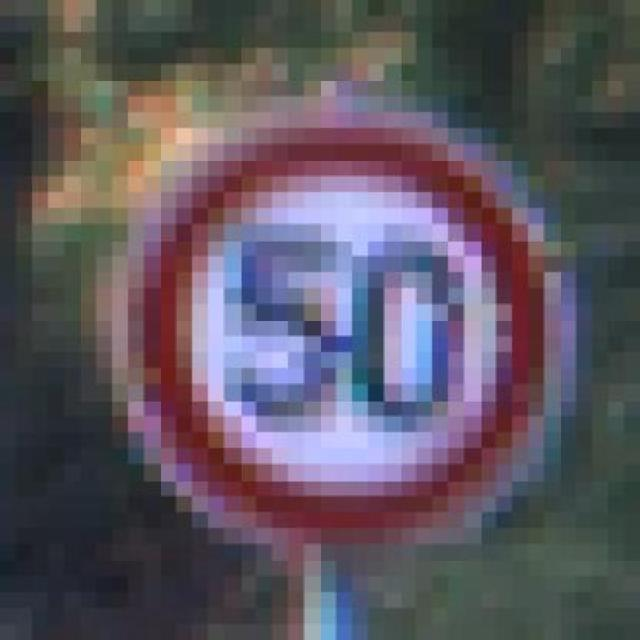Speed limit 50: (123, 115, 567, 542)
